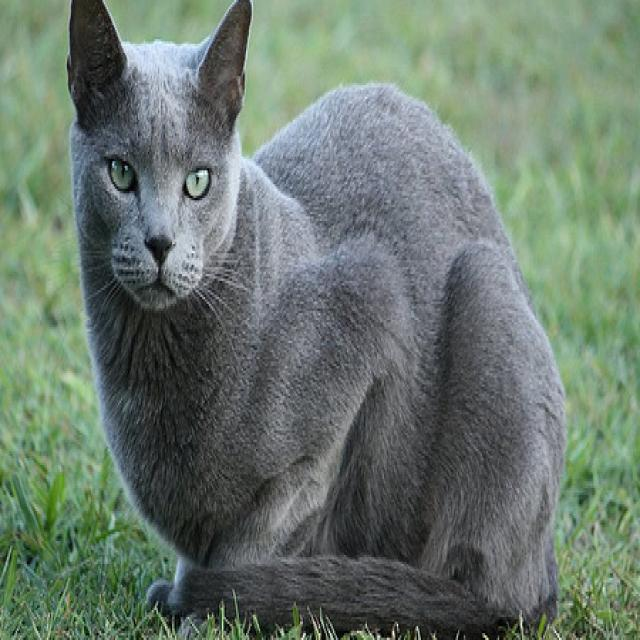Russian Blue: (65, 0, 569, 640)
